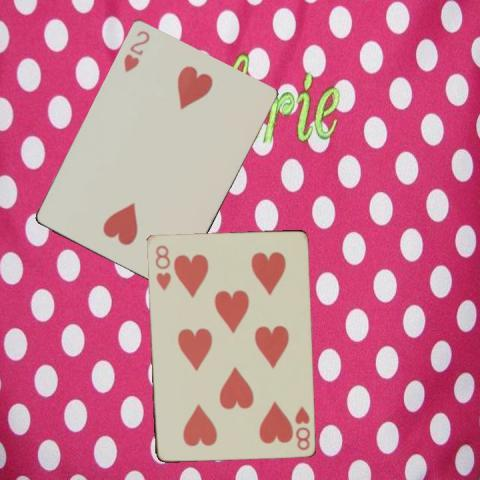2h: (121, 28, 151, 75)
8h: (152, 241, 172, 292), (292, 404, 312, 452)
